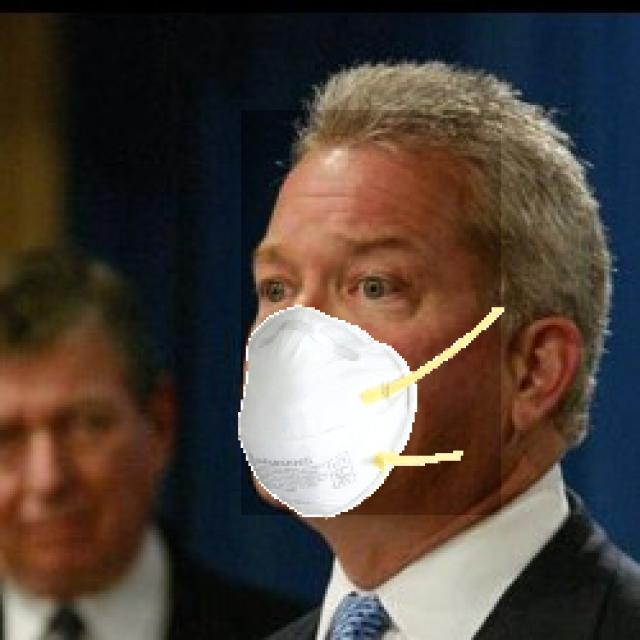n95: (241, 110, 501, 515)
